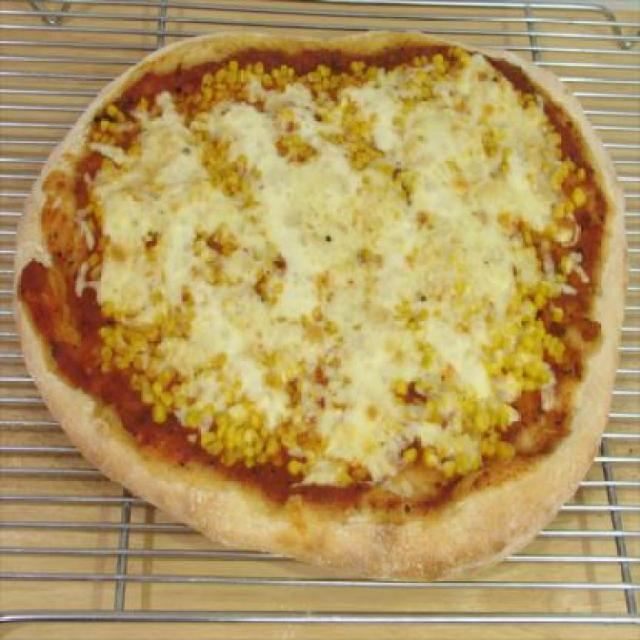Pizza: (0, 24, 606, 592)
